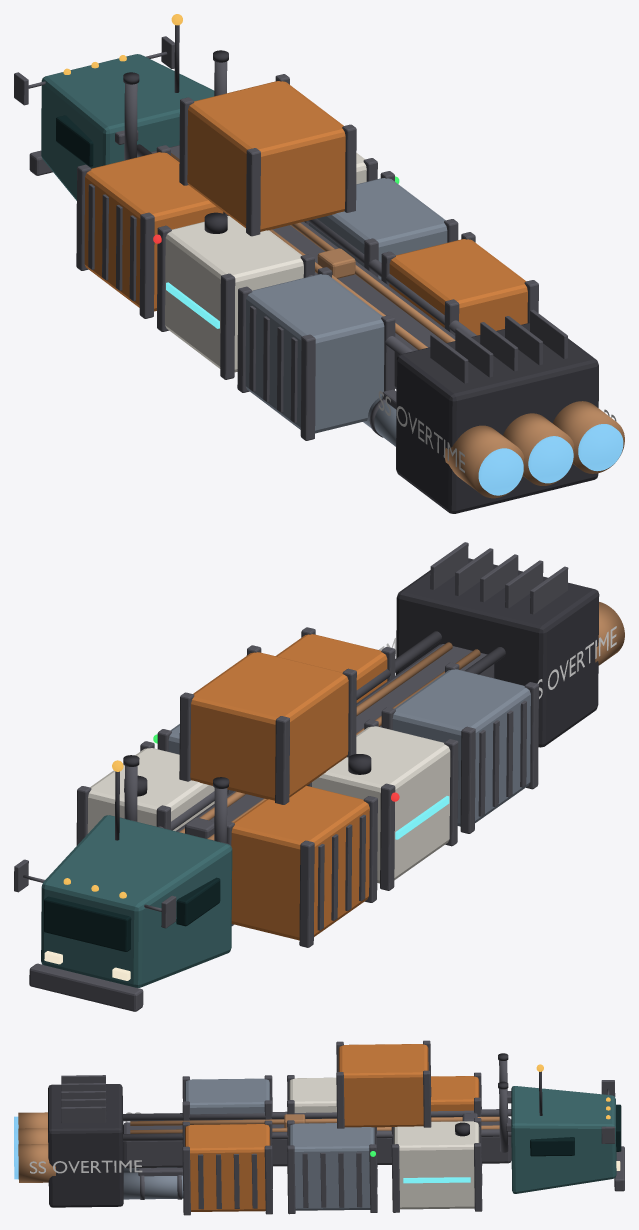
The model's file is hauler.glb.
3 views of the same model, one above another, from view 1: azimuth 30°, elevation 25°; view 2: azimuth 150°, elevation 25°; view 3: azimuth 270°, elevation 25° (orthographic). The views are drawn at different scales.
Parts seen in each view (by area): view 1: EngineBlock, ContainerTop, Container5_0, Cab, Container4_0, Container3_0, Container2_0, Container1_0, Spine, EngineBellL, EngineBellR, EngineBellC (+26 smaller); view 2: Cab, ContainerTop, EngineBlock, Container3_0, Container4_0, Container5_0, Container0_0, Windshield, Container2_0, Spine, Bumper, Post5_0_2 (+20 smaller); view 3: Cab, EngineBlock, ContainerTop, Container0_0, Container2_0, Container1_0, Spine, Container5_0, RailL, Container3_0, Container4_0, TankR (+34 smaller).
Boxes of the visible parts, box(x1,y1,x2,y2) form: EngineBlock: box(396, 323, 598, 513); ContainerTop: box(187, 81, 345, 231); Container5_0: box(245, 274, 384, 433); Cab: box(41, 54, 214, 200); Container4_0: box(165, 216, 303, 372); Container3_0: box(84, 152, 223, 311); Container2_0: box(389, 239, 527, 335); Container1_0: box(309, 178, 447, 279); Spine: box(151, 145, 455, 388); EngineBellL: box(445, 425, 524, 498); EngineBellR: box(552, 401, 624, 473); EngineBellC: box(503, 413, 574, 485); Cab: box(41, 815, 232, 987); ContainerTop: box(190, 652, 348, 800); EngineBlock: box(396, 558, 599, 747); Container3_0: box(231, 786, 369, 940); Container4_0: box(312, 726, 450, 883); Container5_0: box(392, 669, 530, 826); Container0_0: box(87, 748, 214, 833); Windshield: box(44, 896, 131, 951); Container2_0: box(275, 634, 387, 702); Spine: box(176, 644, 494, 831); Bumper: box(29, 963, 143, 1011); Post5_0_2: box(460, 726, 475, 833); Cab: box(511, 1086, 616, 1193); EngineBlock: box(48, 1084, 123, 1207); ContainerTop: box(338, 1044, 428, 1127); Container0_0: box(394, 1121, 479, 1209); Container2_0: box(185, 1124, 270, 1211); Container1_0: box(289, 1123, 374, 1210); Spine: box(123, 1117, 511, 1168); Container5_0: box(185, 1078, 270, 1114); RailL: box(123, 1109, 511, 1121); Container3_0: box(431, 1076, 479, 1111); Container4_0: box(289, 1077, 336, 1112); TankR: box(123, 1172, 183, 1199).
Size of the model in its own units: 2.46 by 1.96 by 8.18.
